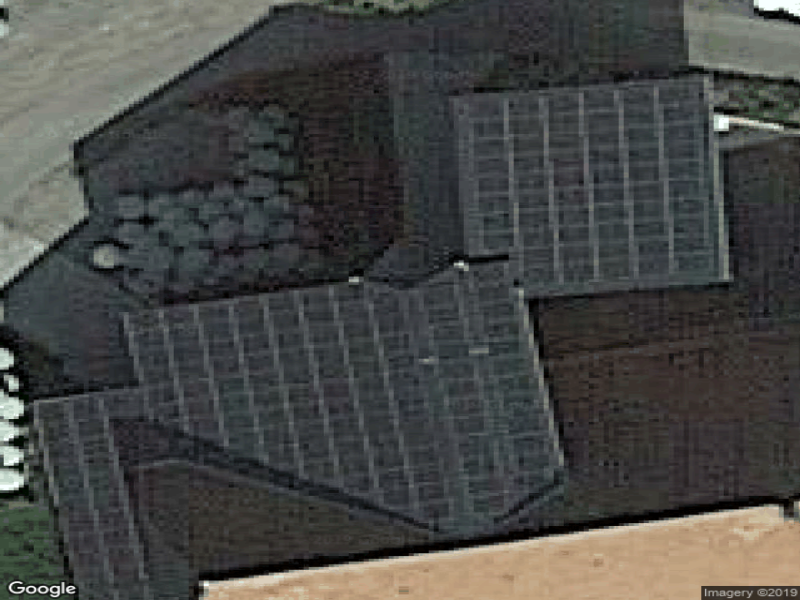pv: (35, 81, 720, 600)
